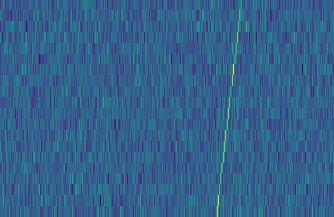signal: (213, 0, 247, 217)
